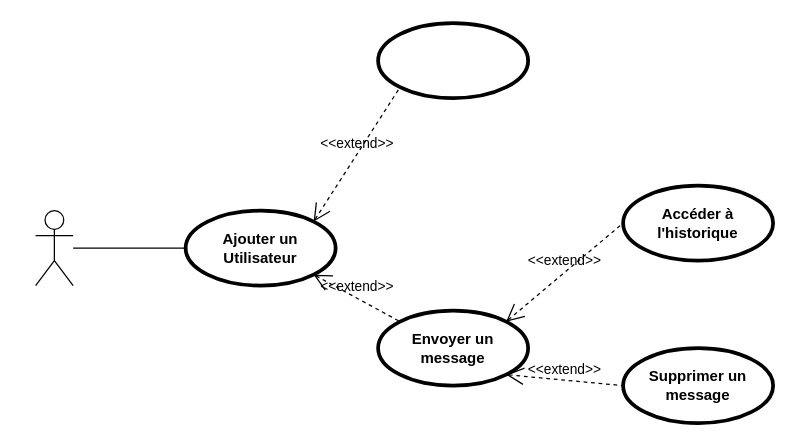
Image size: 796x446. Some labels were removed from this diagram. Here are the shapes that lost their labels. From the top down, the centre of each, then its label:
At point (452, 60): "Supprimer un Utilisateur".
At point (53, 247): "Utilisateur".
